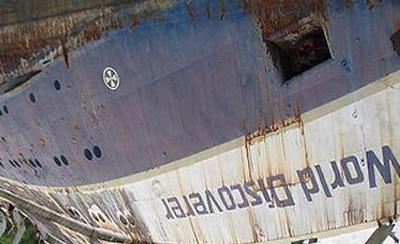rust: (1, 3, 77, 70), (238, 121, 311, 165), (82, 3, 231, 24), (246, 1, 334, 35), (245, 210, 301, 242), (380, 184, 400, 223), (76, 28, 99, 51), (393, 18, 400, 59)
